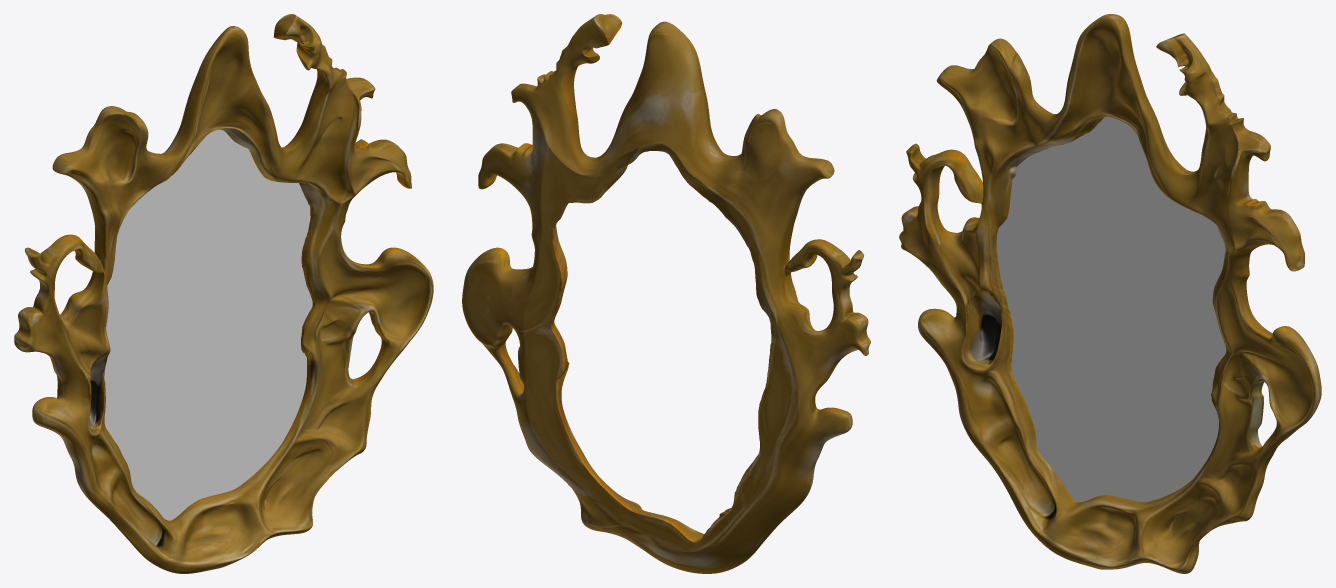
3 views of the same model, side by side, from view 1: azimuth 30°, elevation 25°; view 2: azimuth 150°, elevation 25°; view 3: azimuth 330°, elevation 25° (orthographic). The views are drawn at different scales.
Visible parts, largest first — view 1: tripo_node_bfacd1c6-059b-48d4-ab5d-0ca93908b46a, Circle; view 2: tripo_node_bfacd1c6-059b-48d4-ab5d-0ca93908b46a; view 3: tripo_node_bfacd1c6-059b-48d4-ab5d-0ca93908b46a, Circle.
Boxes of the visible parts, <box> form: tripo_node_bfacd1c6-059b-48d4-ab5d-0ca93908b46a: <box>14,14,433,573</box>; Circle: <box>104,129,312,520</box>; tripo_node_bfacd1c6-059b-48d4-ab5d-0ca93908b46a: <box>462,14,870,573</box>; tripo_node_bfacd1c6-059b-48d4-ab5d-0ca93908b46a: <box>899,14,1321,573</box>; Circle: <box>996,116,1226,502</box>.
Size of the model in its own units: 0.793 by 1 by 0.0841.
Materials: 1 (1 with a texture image).
